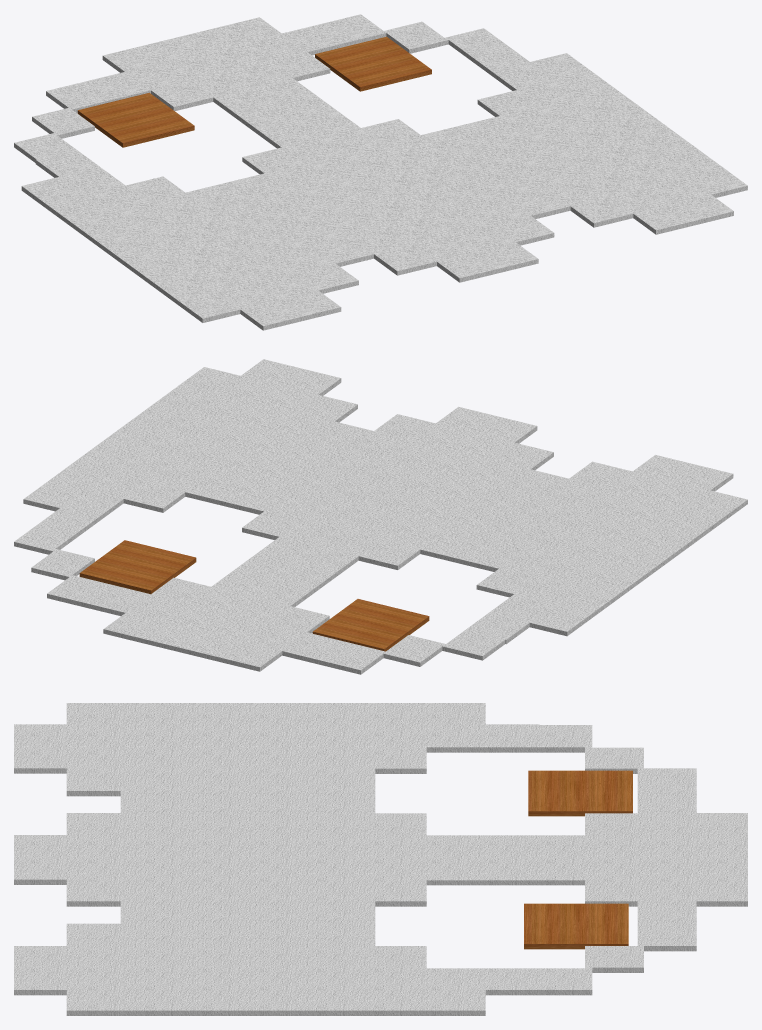
Rendered from fantome 2.fbx.
3 views of the same model, one above another, from view 1: azimuth 30°, elevation 25°; view 2: azimuth 150°, elevation 25°; view 3: azimuth 270°, elevation 25° (orthographic). The views are drawn at different scales.
Visible parts, largest first — view 1: Enduit - Blanc nature, Bois - Acajou horizontal; view 2: Enduit - Blanc nature, Bois - Acajou horizontal; view 3: Enduit - Blanc nature, Bois - Acajou horizontal.
Part boxes in pixels (<box>): Enduit - Blanc nature: <box>14,14,747,330</box>; Bois - Acajou horizontal: <box>77,36,431,147</box>; Enduit - Blanc nature: <box>14,359,747,674</box>; Bois - Acajou horizontal: <box>79,540,429,651</box>; Enduit - Blanc nature: <box>14,703,747,1015</box>; Bois - Acajou horizontal: <box>524,770,632,949</box>.
Bounding box in the file's own units: 762 × 769 × 6.
2 materials, 2 textured.
